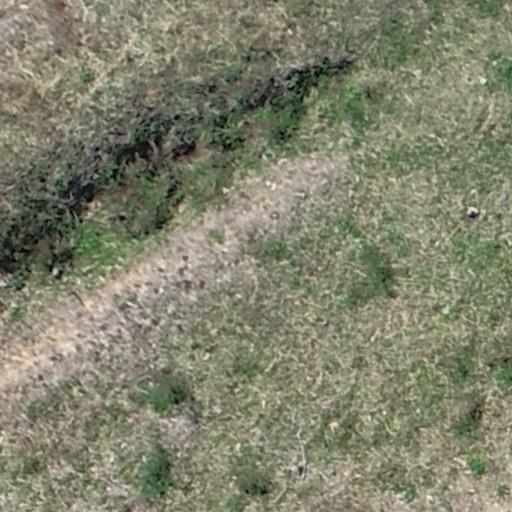stone: (465, 206, 481, 218)
